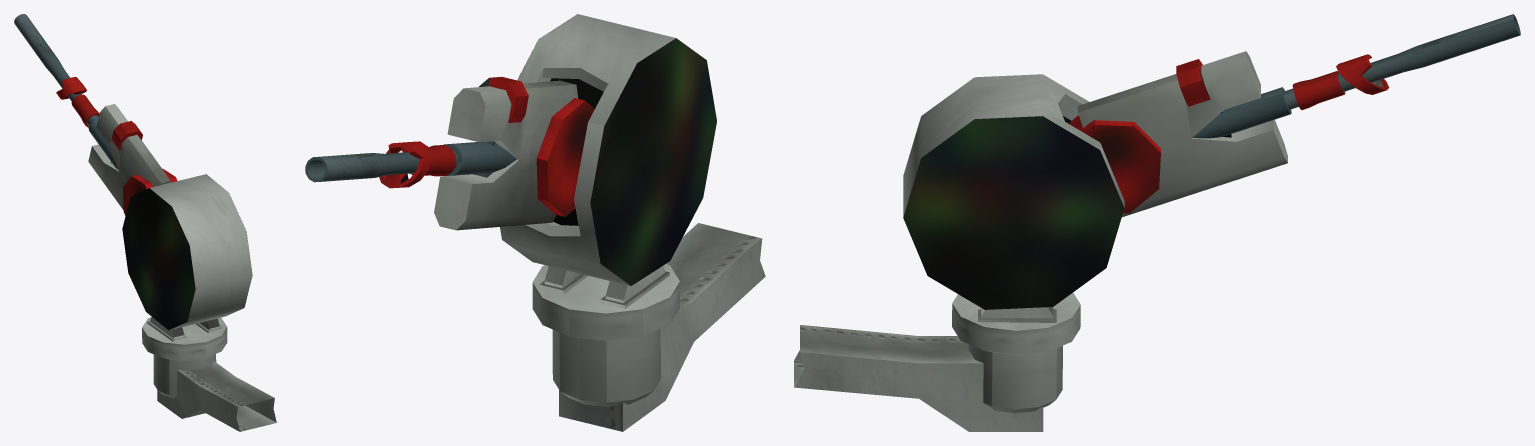
Rendered from Gun1_Base_Textured.fbx.
The picture shows the model from 3 angles, left to right: view 1: azimuth 30°, elevation 25°; view 2: azimuth 150°, elevation 25°; view 3: azimuth 270°, elevation 25°; orthographic projection. The views are drawn at different scales.
Parts seen in each view (by area): view 1: Gun_Head, Gun_Base1, Gun_BarrelR, Gun_R_Single; view 2: Gun_Head, Gun_Base1, Gun_BarrelR, Gun_R_Single; view 3: Gun_Head, Gun_Base1, Gun_BarrelR, Gun_R_Single.
Part boxes in pixels (<box>): Gun_Head: <box>122,174,252,330</box>; Gun_Base1: <box>142,317,276,431</box>; Gun_BarrelR: <box>88,104,177,215</box>; Gun_R_Single: <box>14,14,118,169</box>; Gun_Head: <box>500,14,716,285</box>; Gun_Base1: <box>532,223,765,431</box>; Gun_BarrelR: <box>434,76,594,230</box>; Gun_R_Single: <box>305,141,516,188</box>; Gun_Head: <box>903,74,1124,309</box>; Gun_Base1: <box>794,292,1080,431</box>; Gun_BarrelR: <box>1070,51,1287,217</box>; Gun_R_Single: <box>1192,14,1520,138</box>.
Bounding box in the file's own units: 0.2823 × 0.9799 × 1.6.
1 material, 1 textured.
